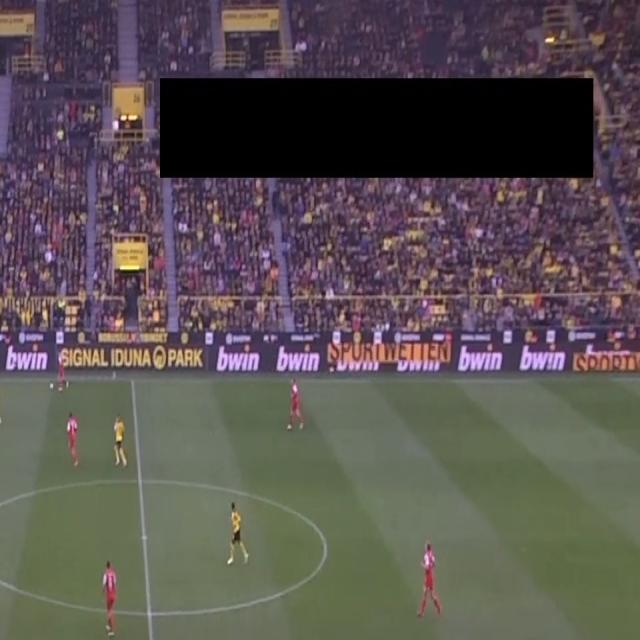ball: (49, 381, 54, 390)
